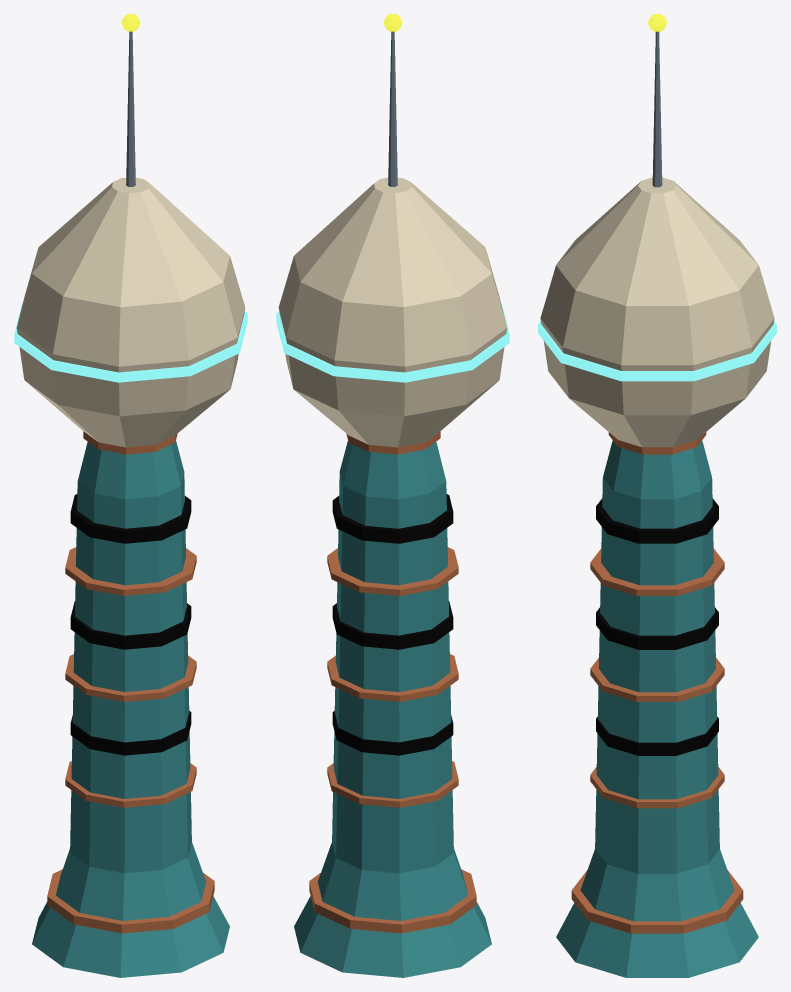
The model's file is City_TowerBulb.fbx.
The picture shows the model from 3 angles, left to right: view 1: azimuth 30°, elevation 25°; view 2: azimuth 150°, elevation 25°; view 3: azimuth 270°, elevation 25°; orthographic projection.
Visible parts, largest first — view 1: City_TowerBulb; view 2: City_TowerBulb; view 3: City_TowerBulb.
Part boxes in pixels (x1,y1,x2,y2): City_TowerBulb: [14, 14, 247, 977]; City_TowerBulb: [276, 14, 509, 977]; City_TowerBulb: [538, 14, 776, 977].
Size of the model in its own units: 11.64 by 12.24 by 52.2.
